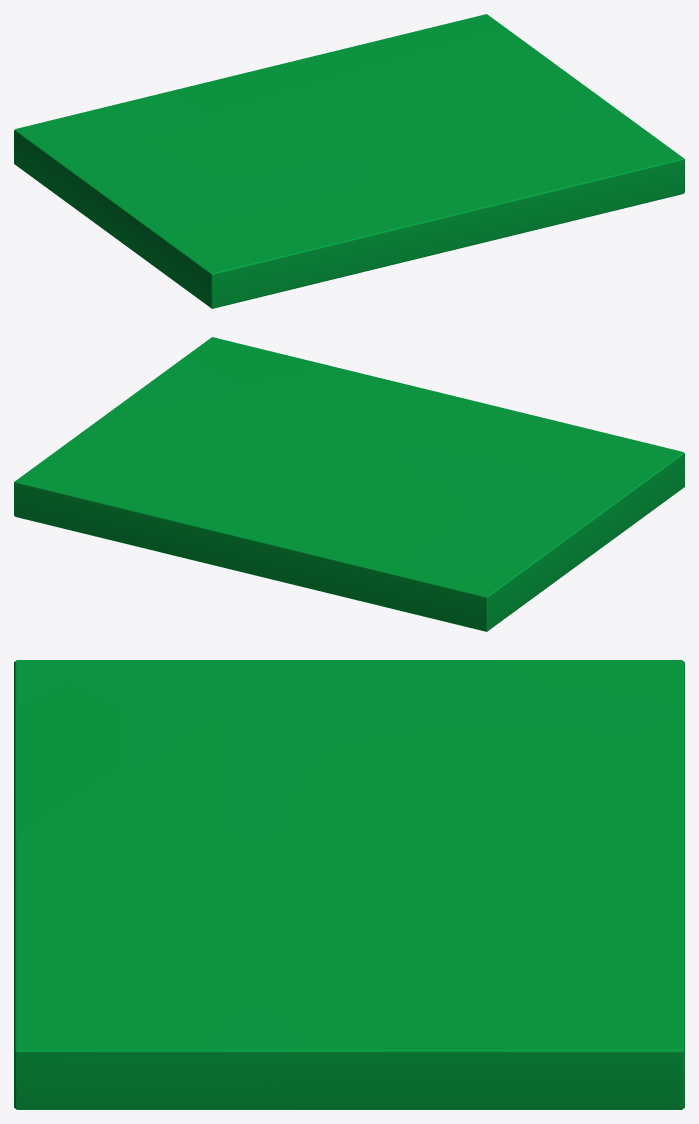
The model's file is Town_11_Base_1.glb.
3 renders of one model, top to bottom at view 1: azimuth 30°, elevation 25°; view 2: azimuth 150°, elevation 25°; view 3: azimuth 270°, elevation 25°, orthographic. The views are drawn at different scales.
Parts seen in each view (by area): view 1: Town_11_Base_1; view 2: Town_11_Base_1; view 3: Town_11_Base_1.
Boxes of the visible parts, box(x1,y1,x2,y2) form: Town_11_Base_1: box(14, 14, 684, 308); Town_11_Base_1: box(14, 337, 684, 631); Town_11_Base_1: box(14, 660, 684, 1109).
Size of the model in its own units: 15.84 by 1.15 by 11.47.
Materials: 1 (1 with a texture image).
